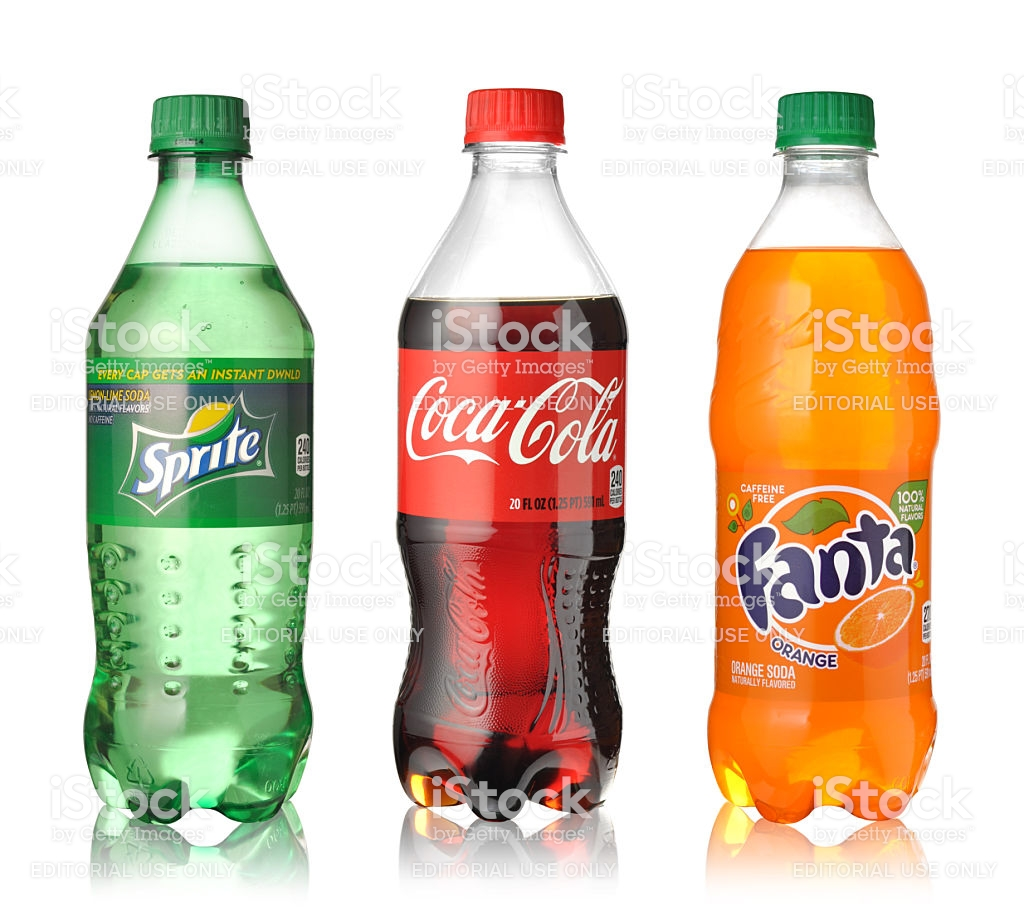Coca-Cola: (684, 82, 969, 814)
Fanta: (351, 103, 635, 835)
Sprite: (61, 94, 346, 826)
